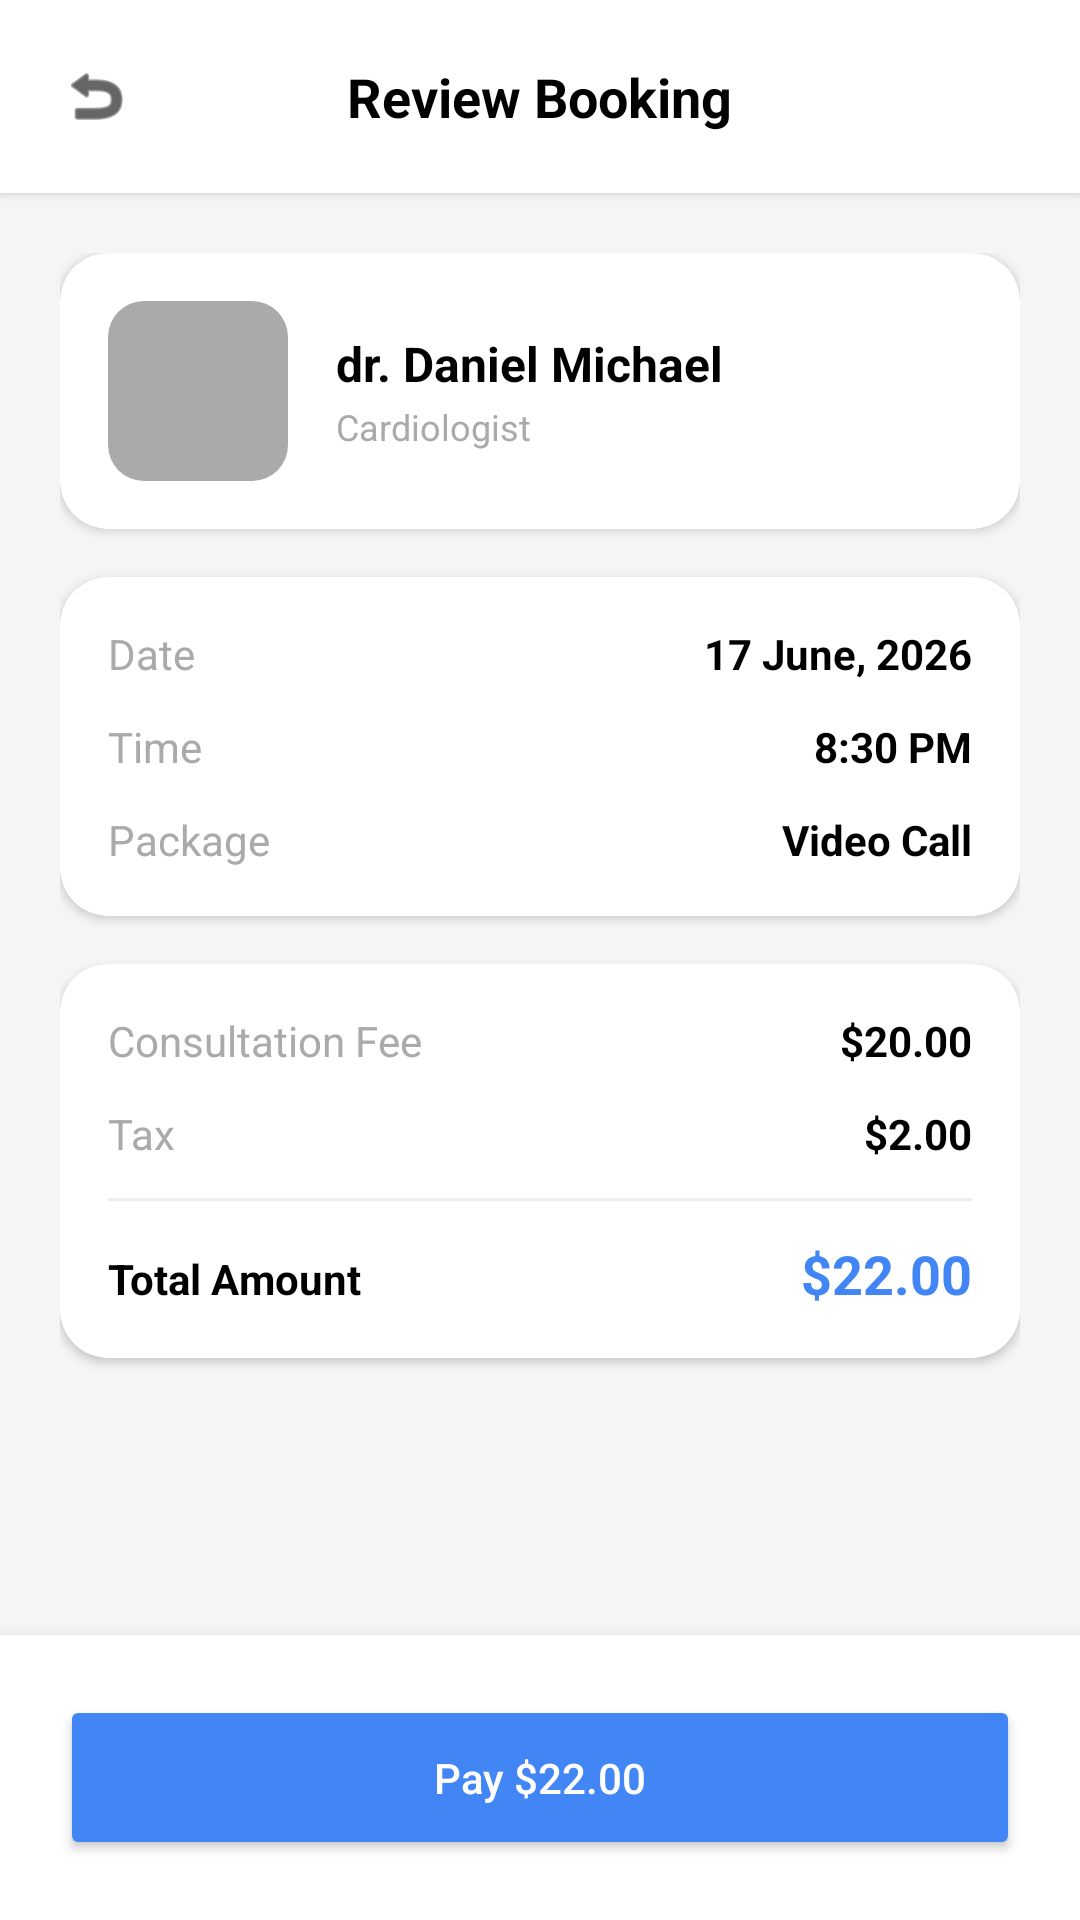

Screen size 1080px x 1920px. Icon name, then its box in pixels as (x1,y1,x2,y2):
revert: (71,73,123,120)
